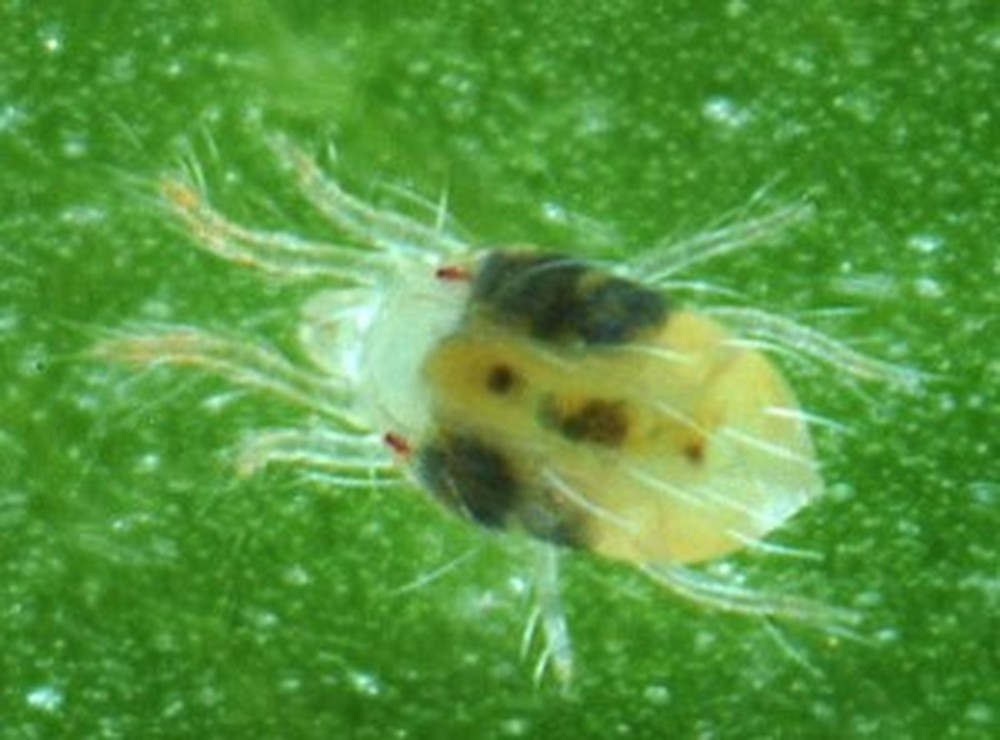Aracnido Rojo: (113, 110, 929, 686)
